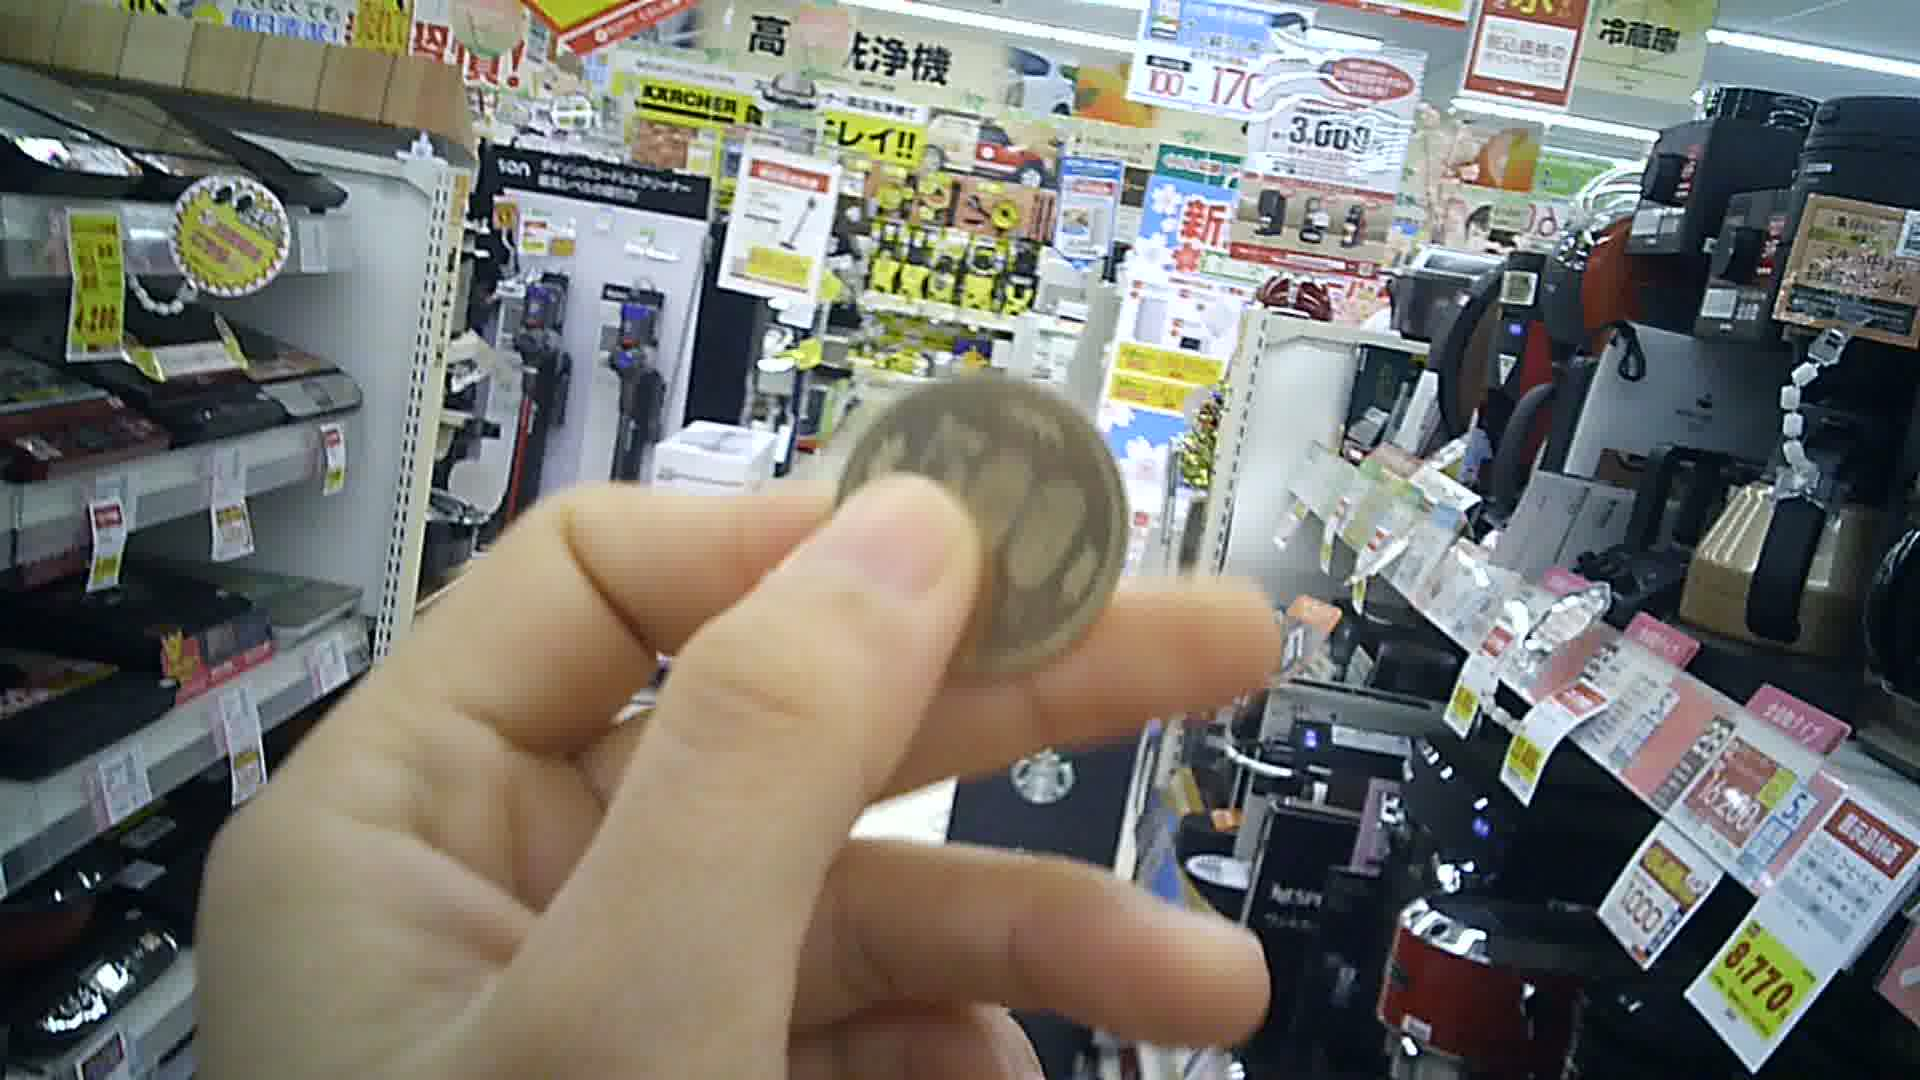500 Yen: (824, 371, 1139, 687)
